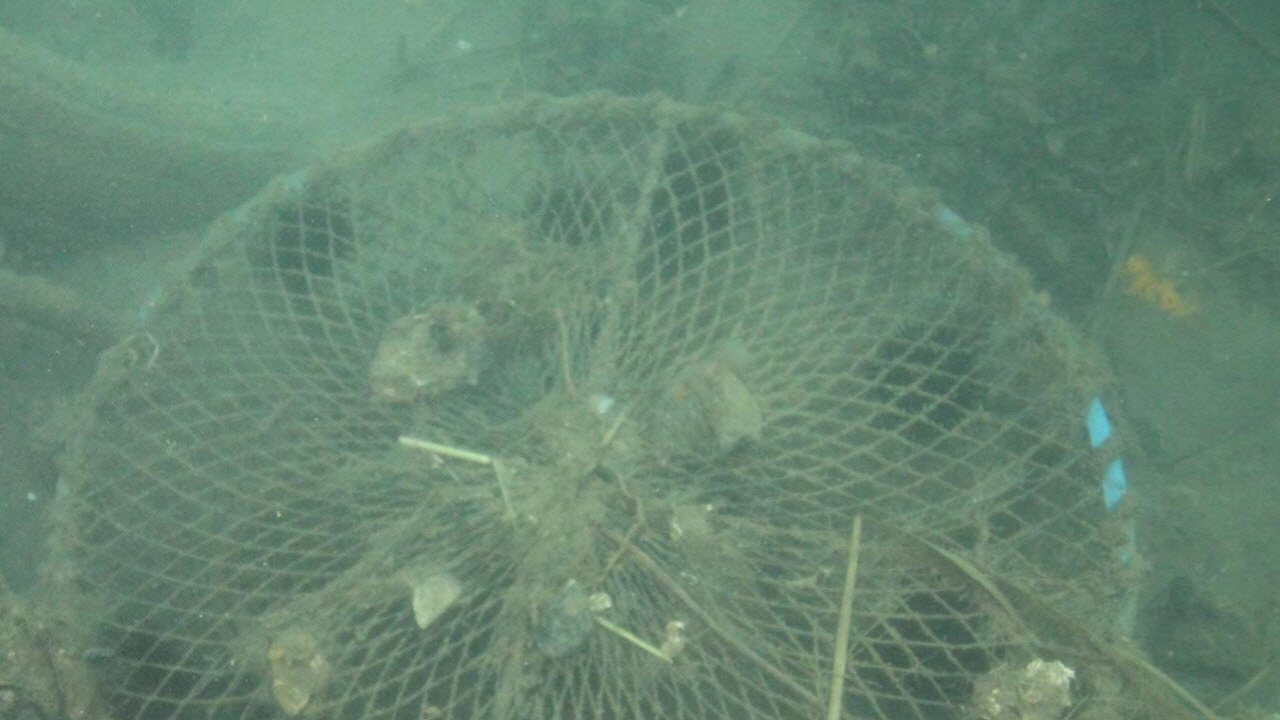circular fish trap: (40, 93, 1127, 720)
